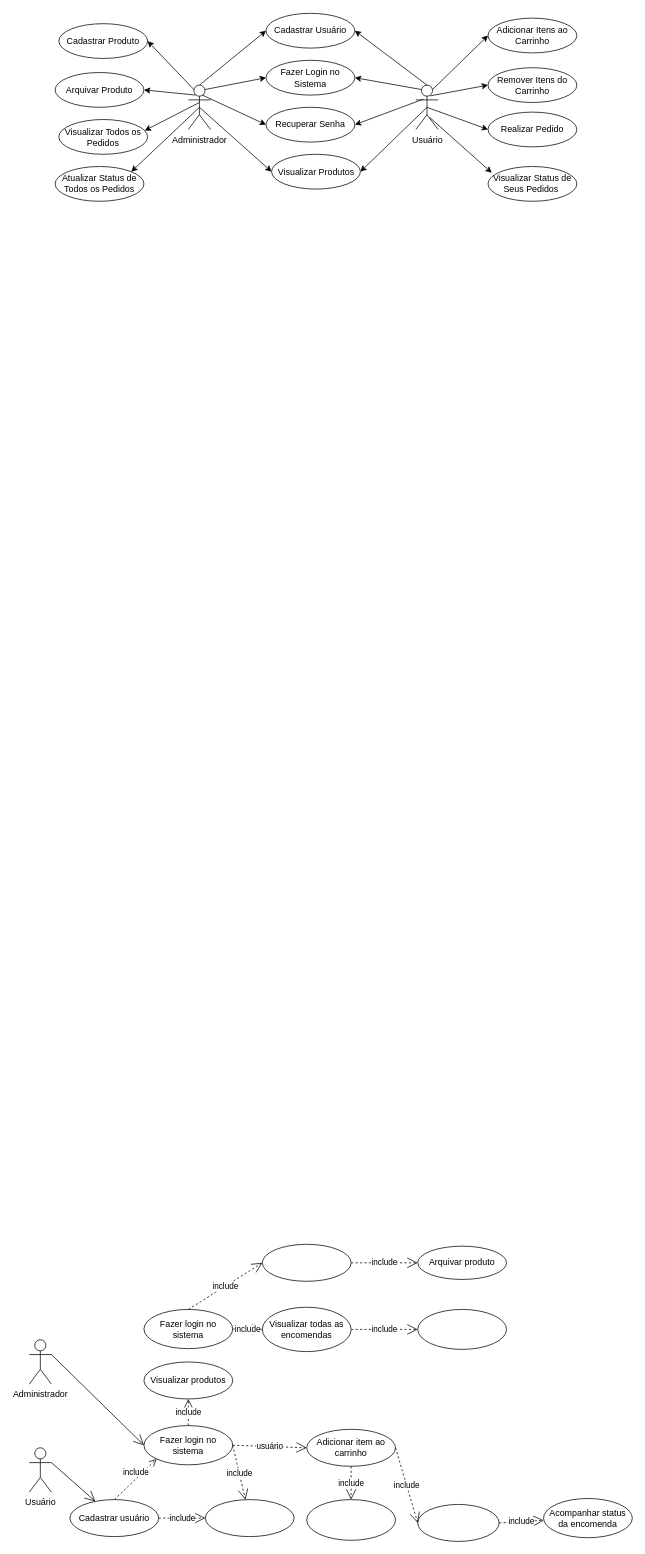
This 645x1554 diagram has some shape labels left out. The centre of each missing label's shape, as x and y in pixels:
Alterar senha: point (249, 1518)
Alterar status das encomendas: point (462, 1329)
Incluir produtos: point (306, 1262)
Realizar encomenda: point (458, 1522)
Remover item do carrinho: point (351, 1519)
